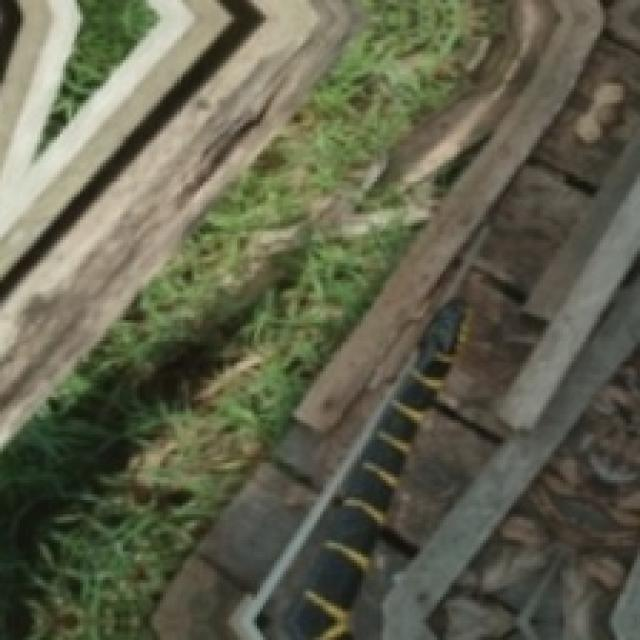mangrove cat snake: (260, 297, 466, 637)
